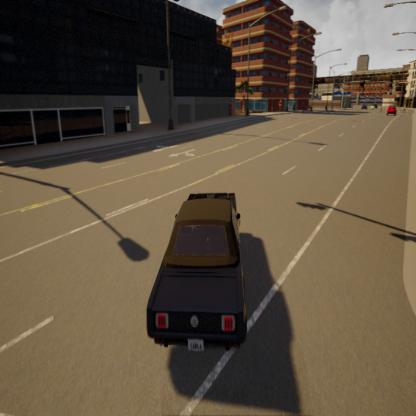Cars: (146, 188, 250, 358)
